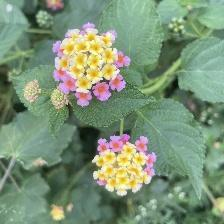common lanthana: (92, 130, 162, 195)
